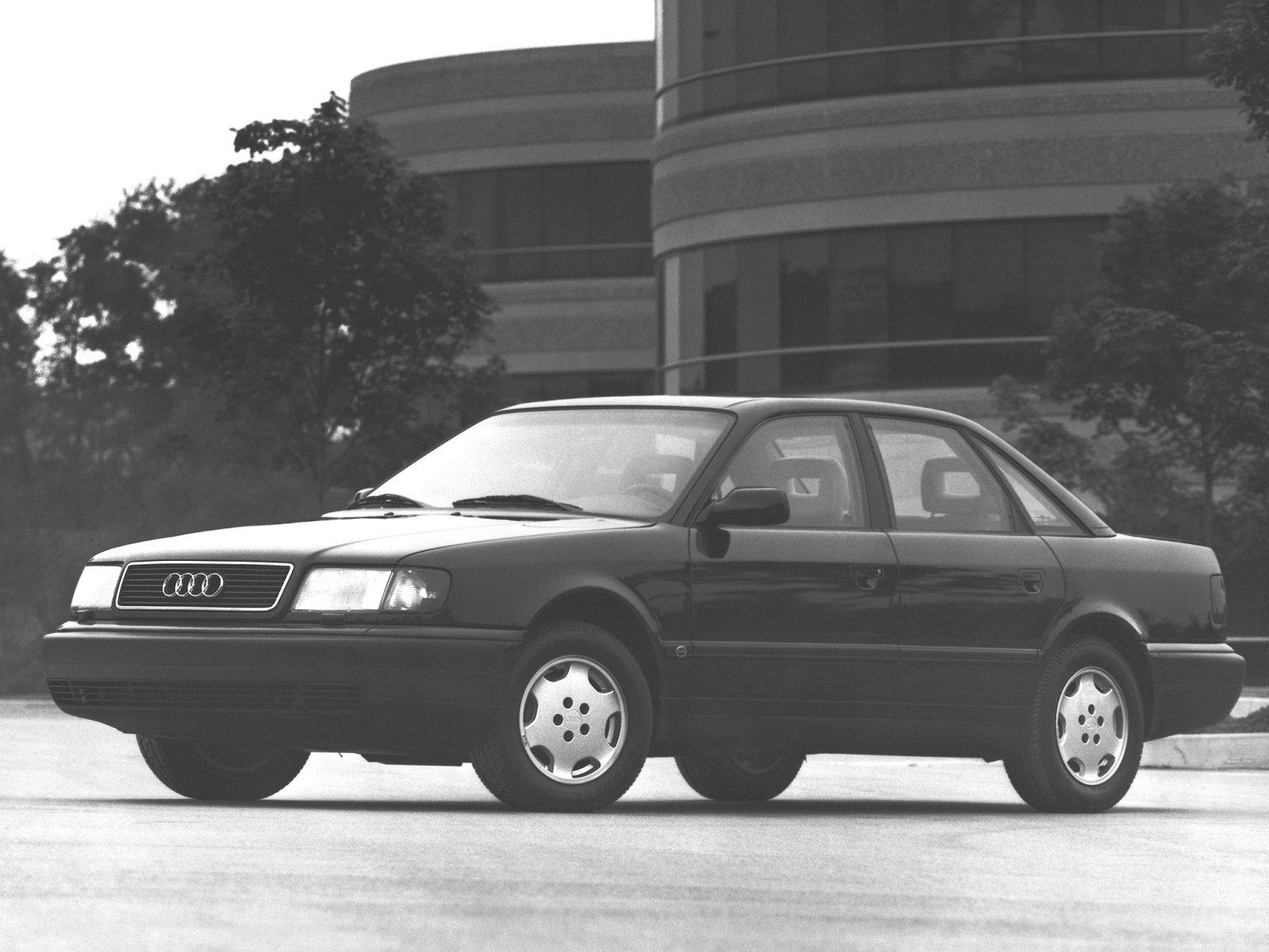car: (41, 391, 1248, 824)
